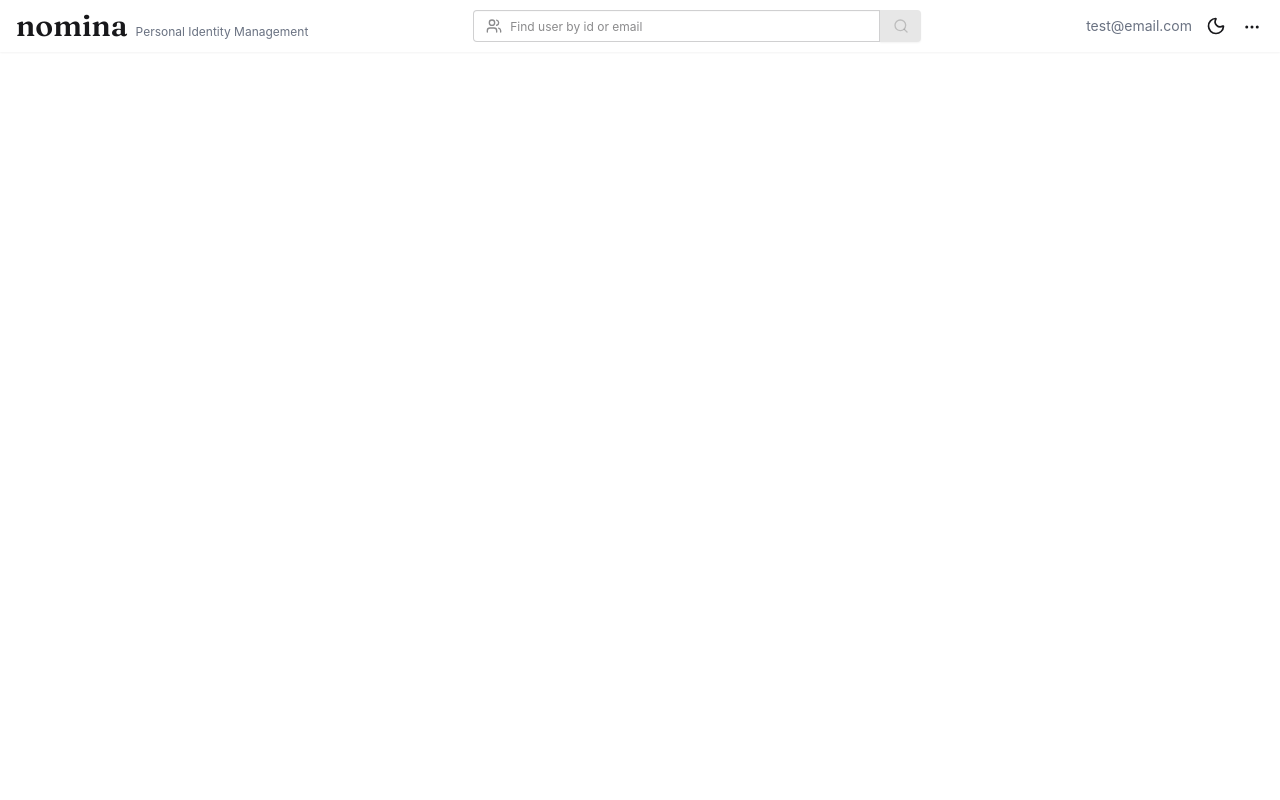
it: Header › searches by email when the query is an email
Type "user@test.com" into the search field with placeholder "Find user by id or email" at (689, 26), box [510,11,867,41]
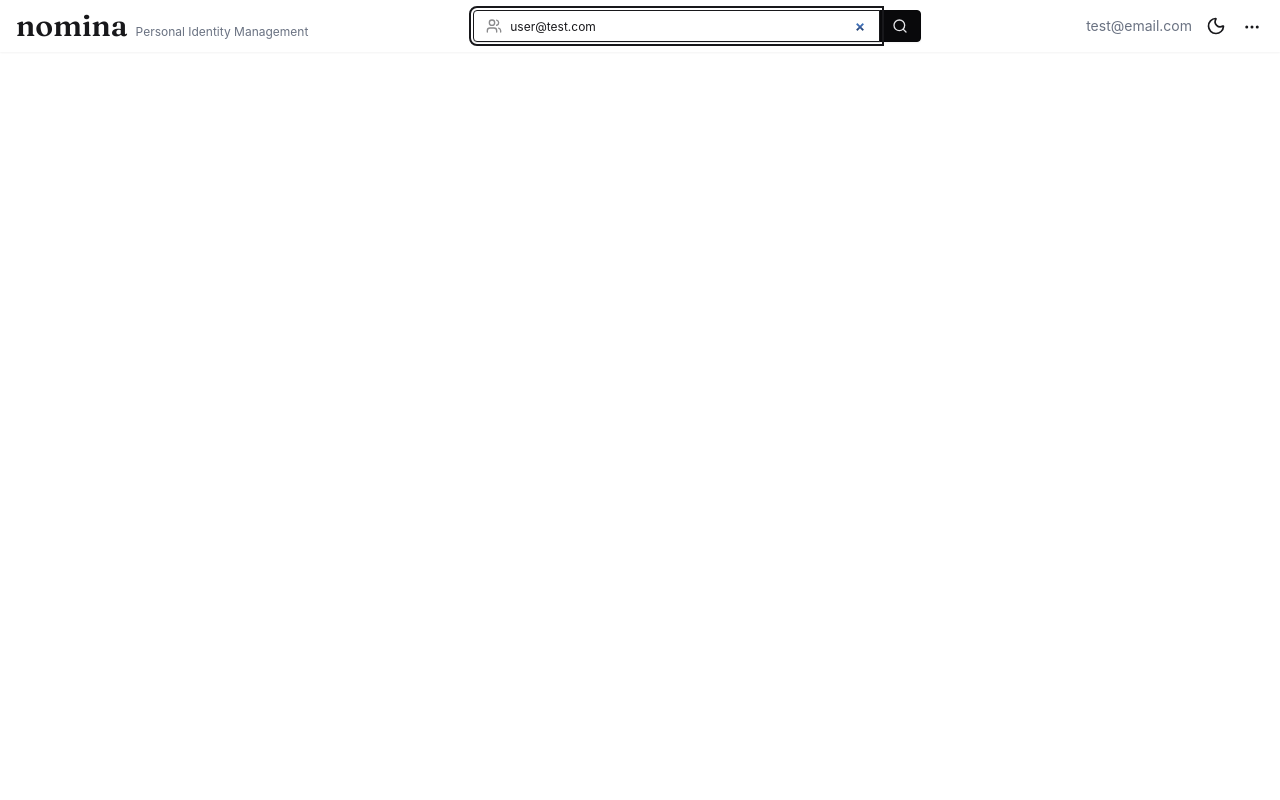
Click the button named "Search" at (900, 26), box [879,10,921,42]
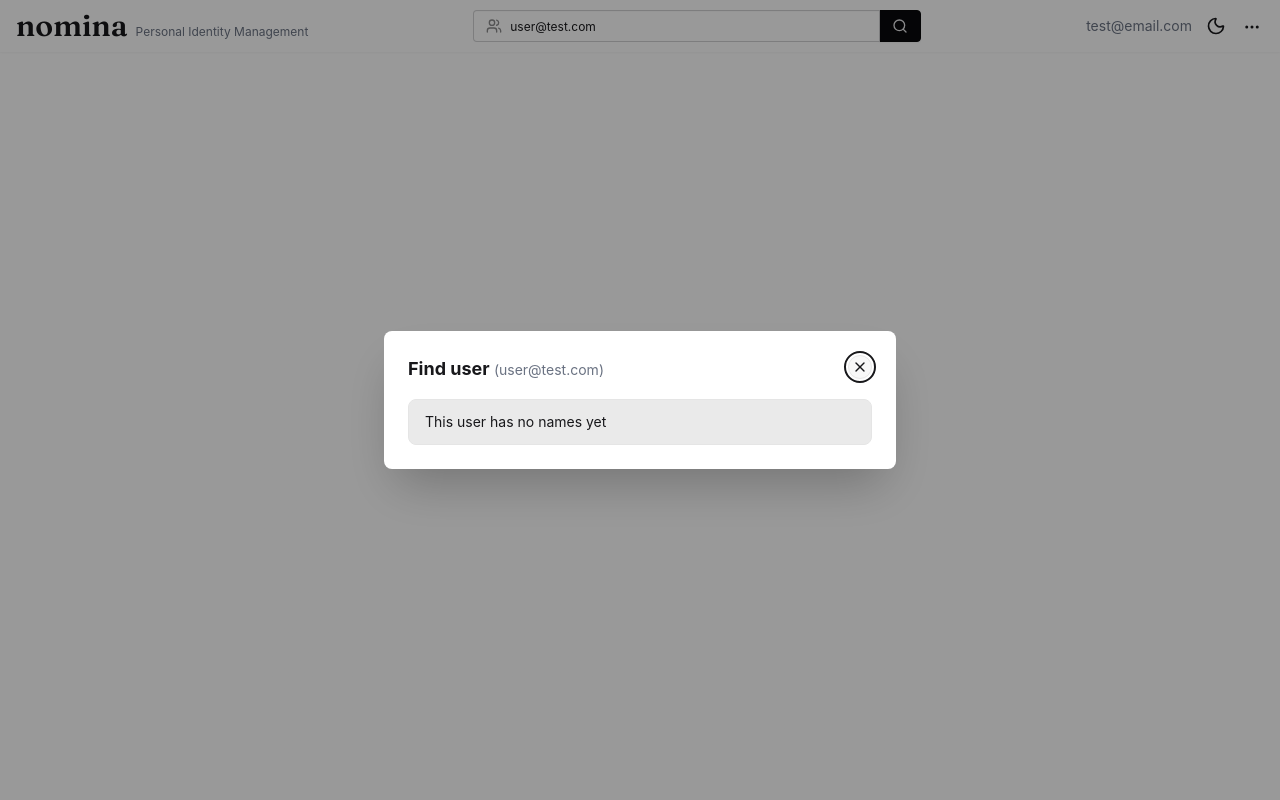
Expected: the heading "Find user (user@test.com)" is shown, [408,355,604,383]
Expected: the text "(user@test.com)" is shown, [494,361,604,378]
